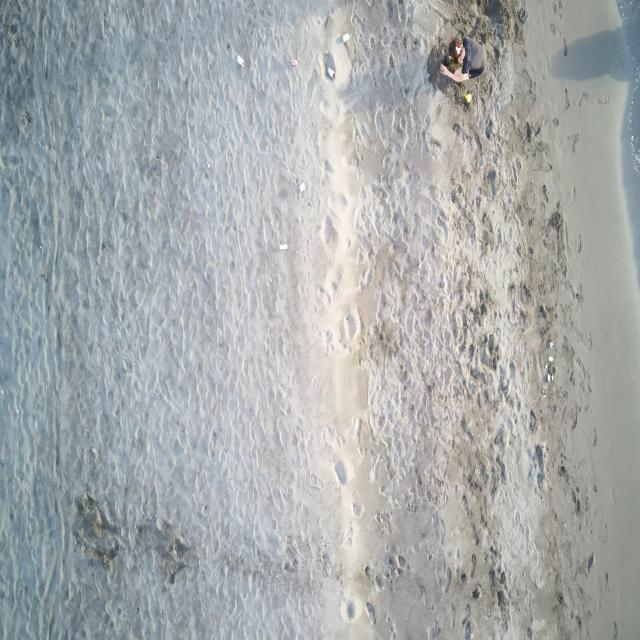tin-and-aluminum-cans: (236, 55, 245, 67), (327, 66, 335, 79), (279, 242, 289, 252), (342, 32, 351, 43), (291, 57, 299, 68), (299, 181, 306, 192)
